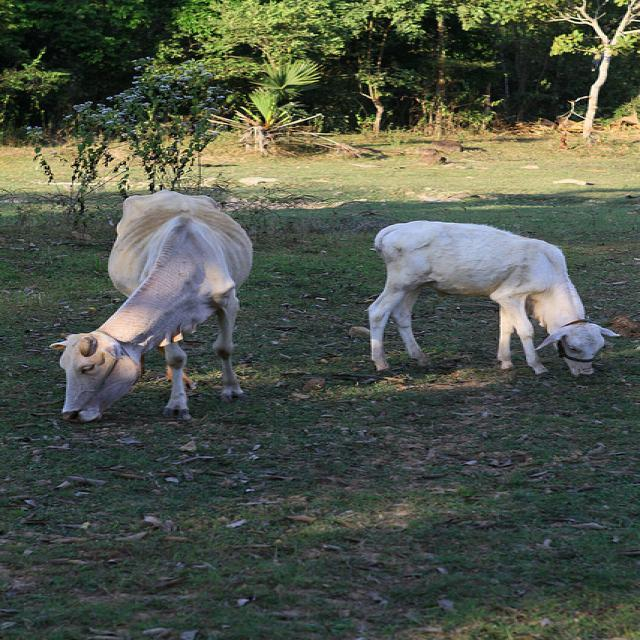cow: (45, 187, 253, 424), (364, 218, 619, 377)
